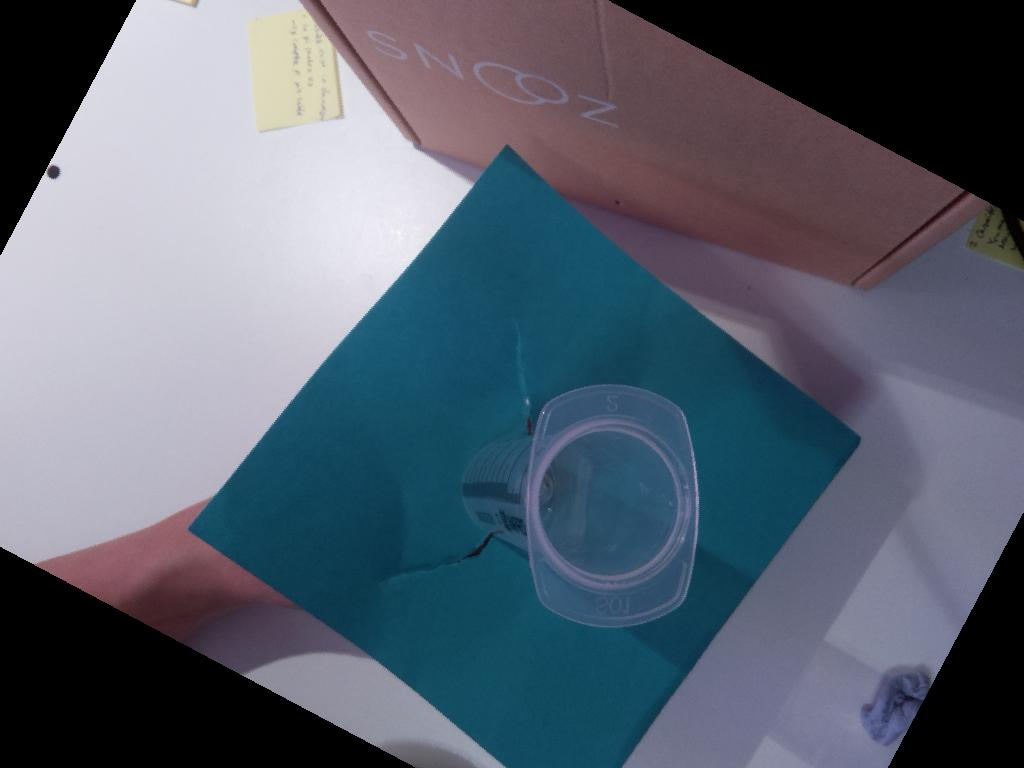clean: (517, 385, 704, 627)
